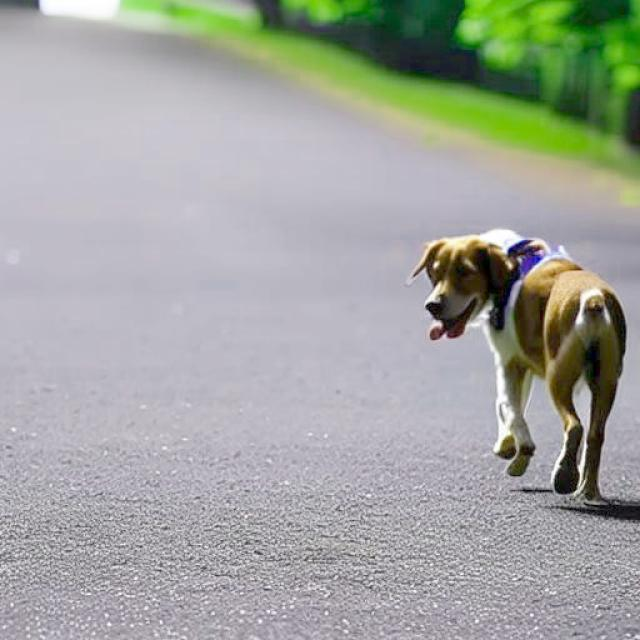Dog: (404, 228, 628, 498)
